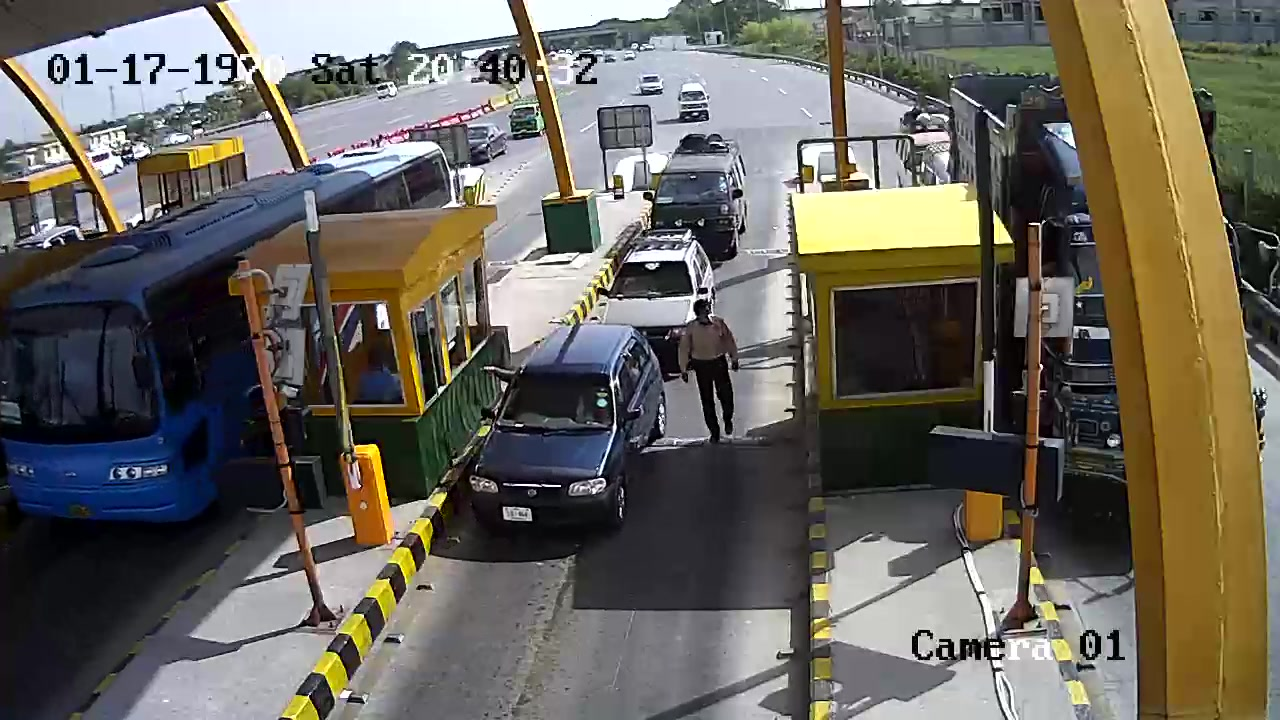F1: (450, 319, 682, 558), (585, 228, 733, 381)
